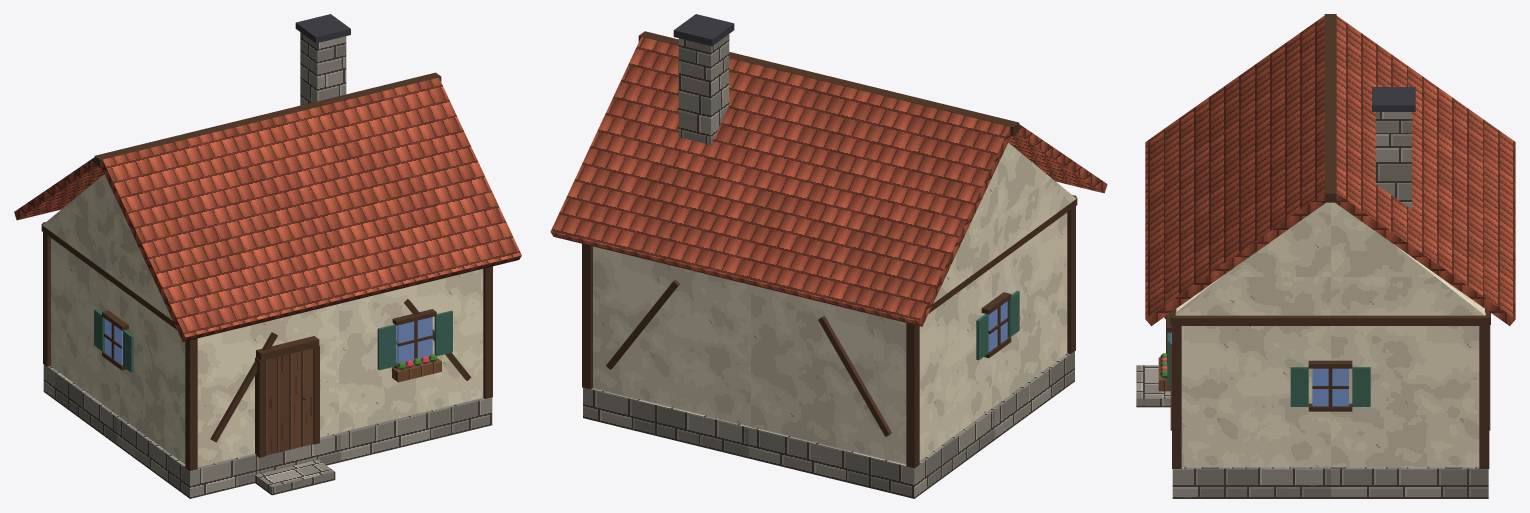
The model's file is house_a.glb.
The picture shows the model from 3 angles, left to right: view 1: azimuth 30°, elevation 25°; view 2: azimuth 150°, elevation 25°; view 3: azimuth 270°, elevation 25°; orthographic projection. The views are drawn at different scales.
Visible parts, largest first — view 1: House_A; view 2: House_A; view 3: House_A.
Part boxes in pixels (x1,y1,x2,y2): House_A: (14, 14, 521, 498); House_A: (550, 14, 1107, 498); House_A: (1136, 14, 1515, 498).
Size of the model in its own units: 7 by 6.68 by 6.25.
Materials: 15 (9 with a texture image).
